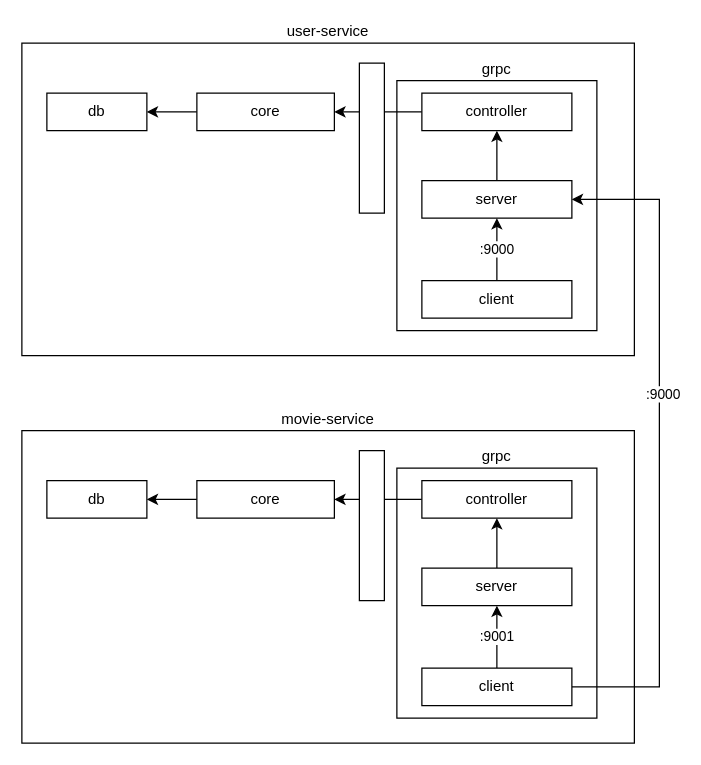
The diagram is 701 pixels wide and 765 high, and some of its shapes have lost their labels. Here are the shapes that lost their labels. From the top down, the centre of each, then its label:
At point 371,137: "user".
At point 371,525: "movie".
